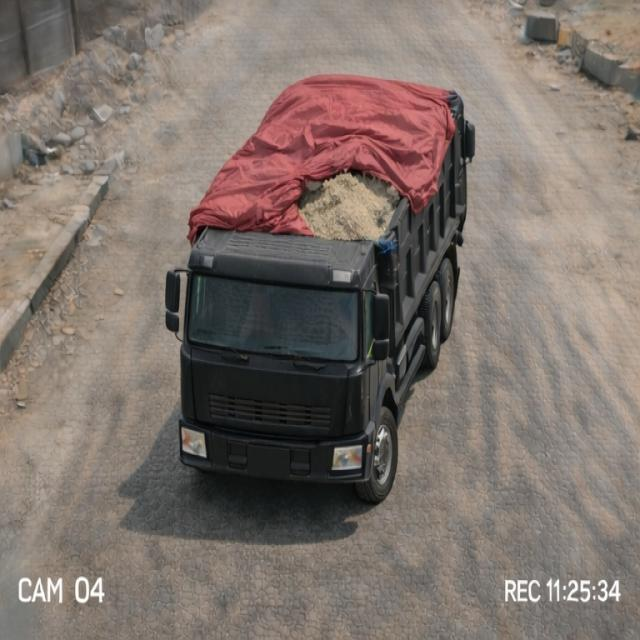trailer: (188, 68, 463, 255)
truck: (162, 55, 491, 498)
